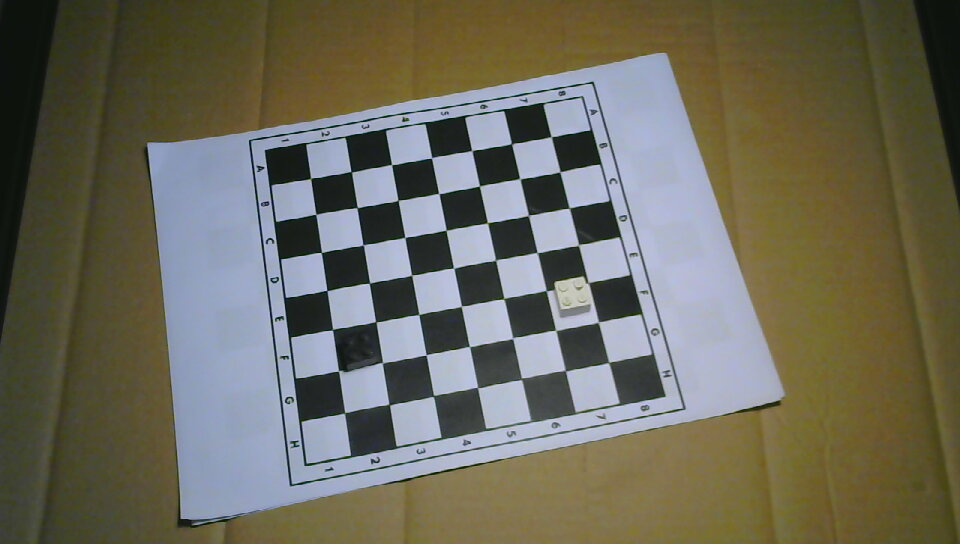bp: (338, 330, 381, 371)
wp: (552, 276, 593, 316)
